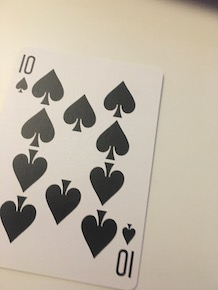TenOfSpades: (2, 46, 169, 290)
